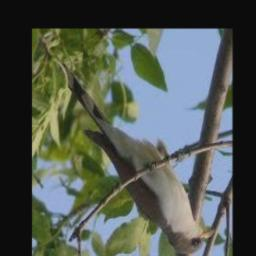Cuckoo: (58, 61, 215, 254)
